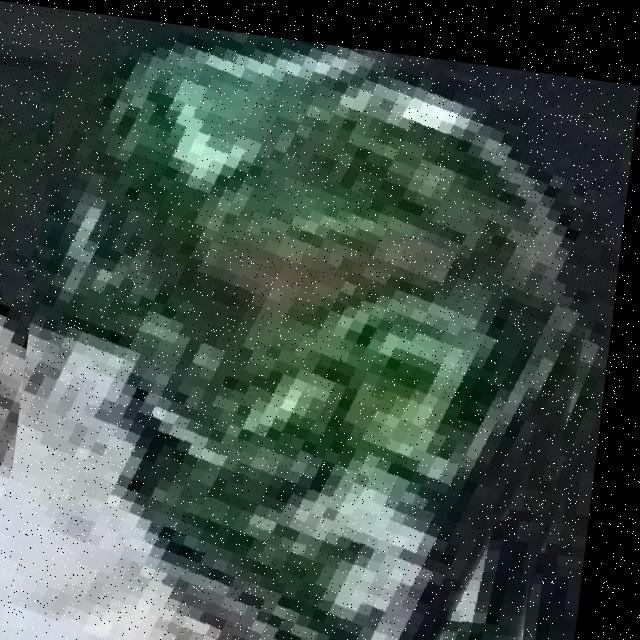litter: (41, 11, 610, 640)
